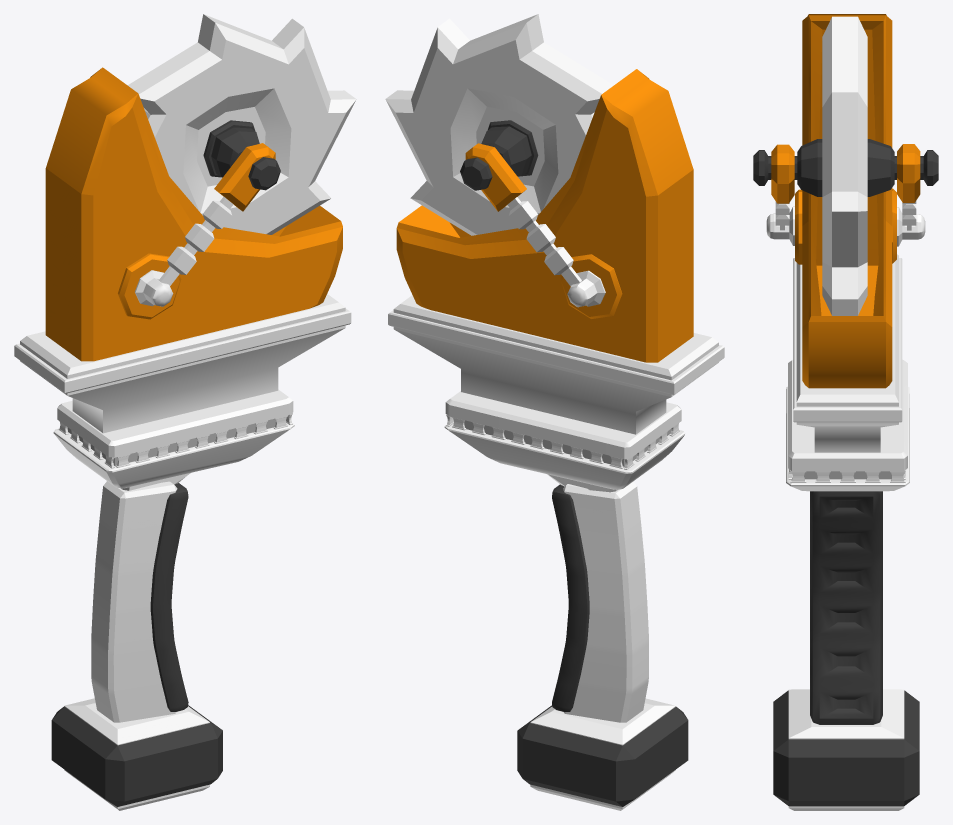
The model's file is SmallSaw.fbx.
3 views of the same model, side by side, from view 1: azimuth 30°, elevation 25°; view 2: azimuth 150°, elevation 25°; view 3: azimuth 270°, elevation 25° (orthographic). The views are drawn at different scales.
Parts seen in each view (by area): view 1: SmallSaw; view 2: SmallSaw; view 3: SmallSaw.
Part boxes in pixels (x1,y1,x2,y2): SmallSaw: (14,14,356,810); SmallSaw: (385,14,724,810); SmallSaw: (753,14,938,810).
Bounding box in the file's own units: 0.9941 × 2.29 × 0.4747.
